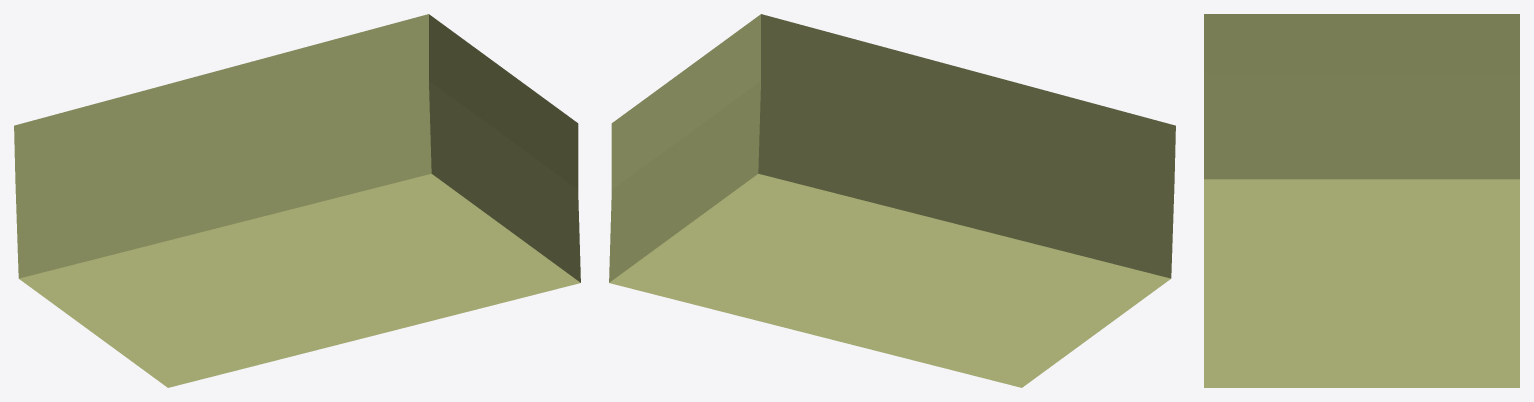
3 renders of one model, left to right at view 1: azimuth 30°, elevation 25°; view 2: azimuth 150°, elevation 25°; view 3: azimuth 270°, elevation 25°, orthographic. The views are drawn at different scales.
Parts seen in each view (by area): view 1: 0_1_2_0_3_1_2_3_3_2; view 2: 0_1_2_0_3_1_2_3_3_2; view 3: 0_1_2_0_3_1_2_3_3_2.
Boxes of the visible parts, x1=… form: 0_1_2_0_3_1_2_3_3_2: x1=14, y1=14, x2=580, y2=387; 0_1_2_0_3_1_2_3_3_2: x1=609, y1=14, x2=1175, y2=387; 0_1_2_0_3_1_2_3_3_2: x1=1204, y1=14, x2=1519, y2=387.
Bounding box in the file's own units: 9.69 × 3.65 × 6.
